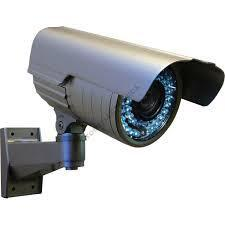tutu: (28, 18, 225, 152)
